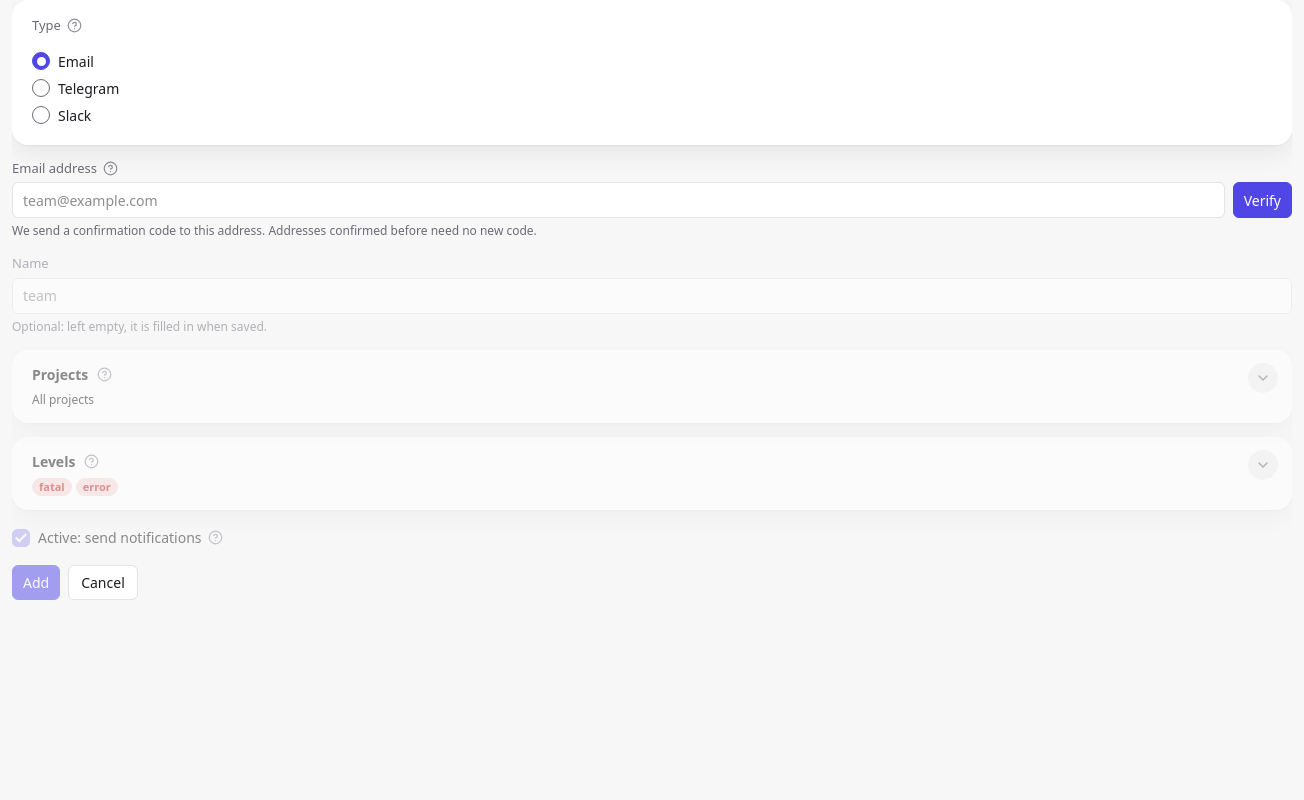
Test: ConnectionForm › checks the chat fields with the server patterns and links getUpdates for a valid token
Step 1. Click the radio button labelled "Telegram" → (41, 88), box [32, 79, 50, 97]
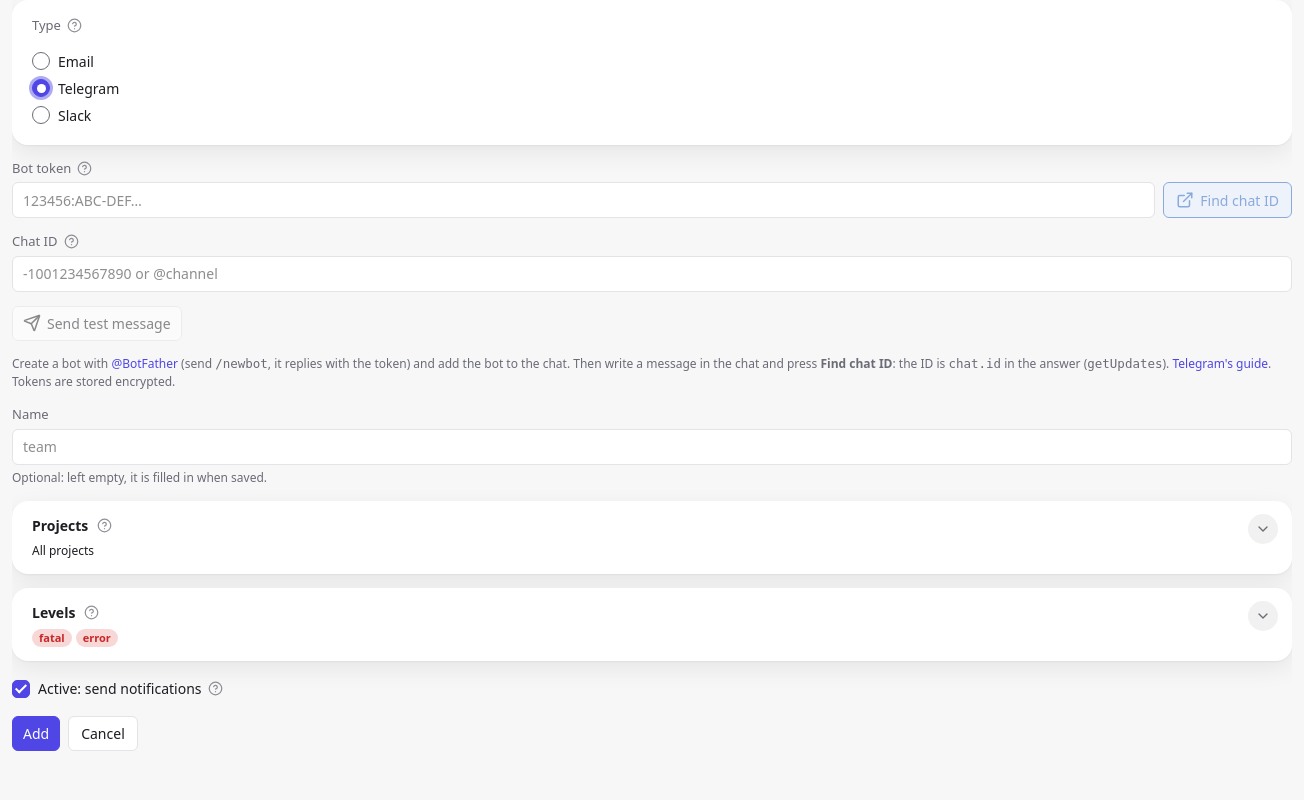
Now the button "Find chat ID" is disabled, box [1163, 182, 1292, 218]
Now the button "Send test message" is disabled, box [12, 306, 182, 340]
Step 2. Type "123456:ABCDEFGHIJKLMNOPQRSTUVWXYZ" into the password field labelled "Bot token" → (584, 200), box [12, 182, 1155, 218]
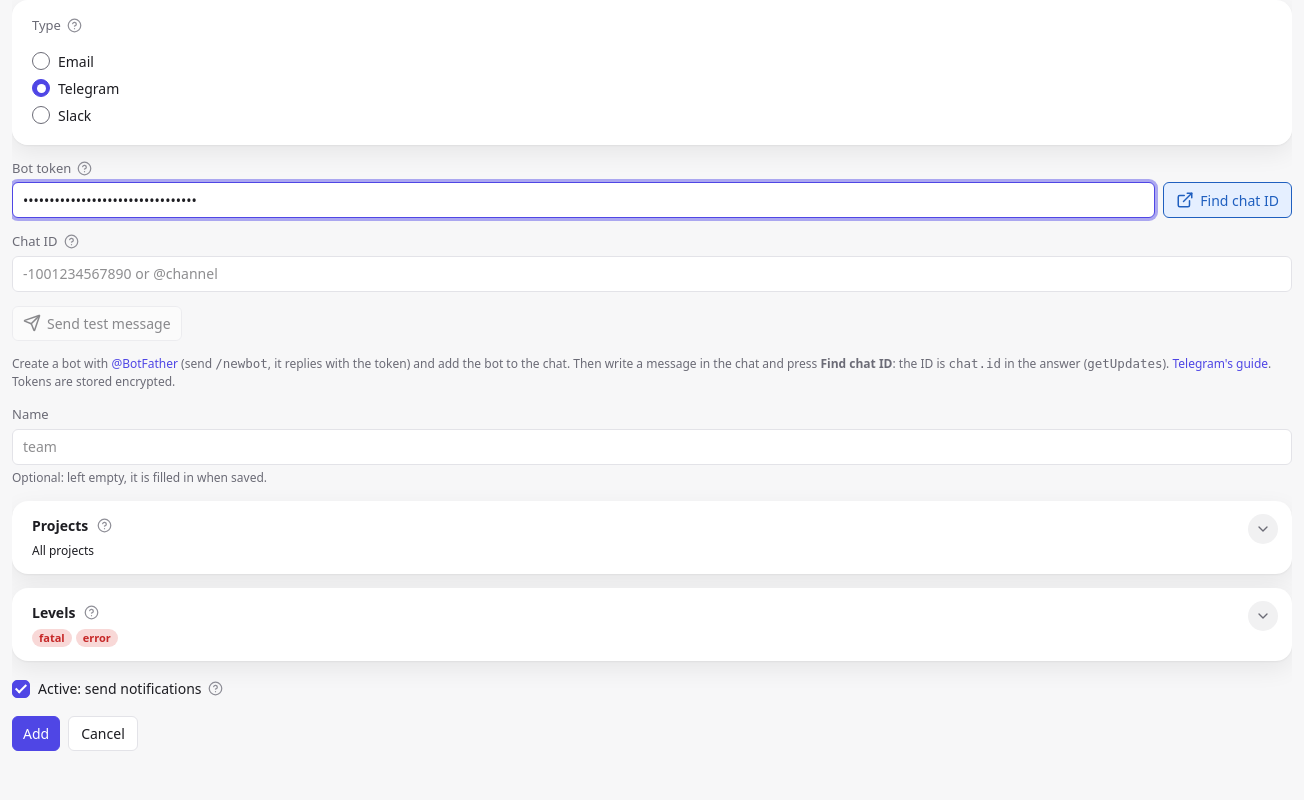
Step 3. Type "-100" into the field labelled "Chat ID" → (652, 274), box [12, 256, 1292, 292]
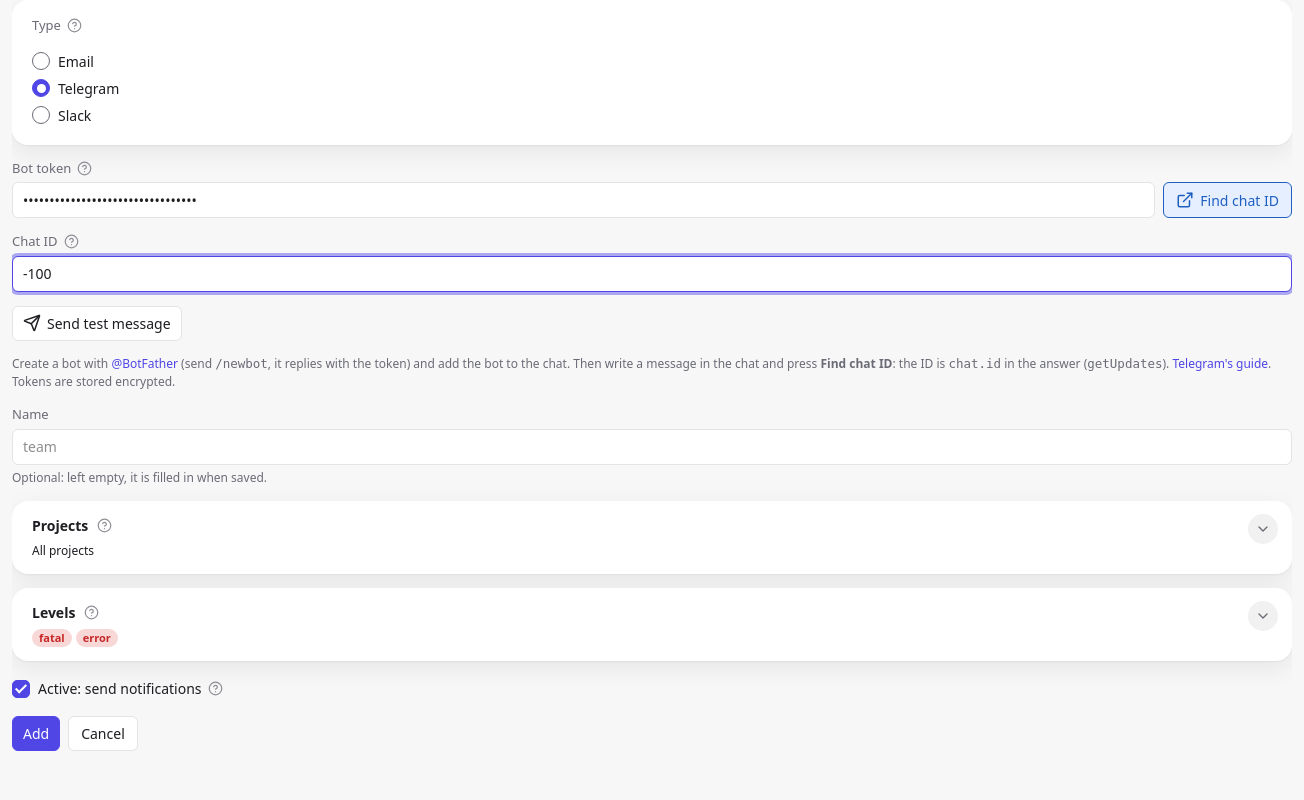
Now the button "Send test message" is enabled, box [12, 306, 182, 340]
